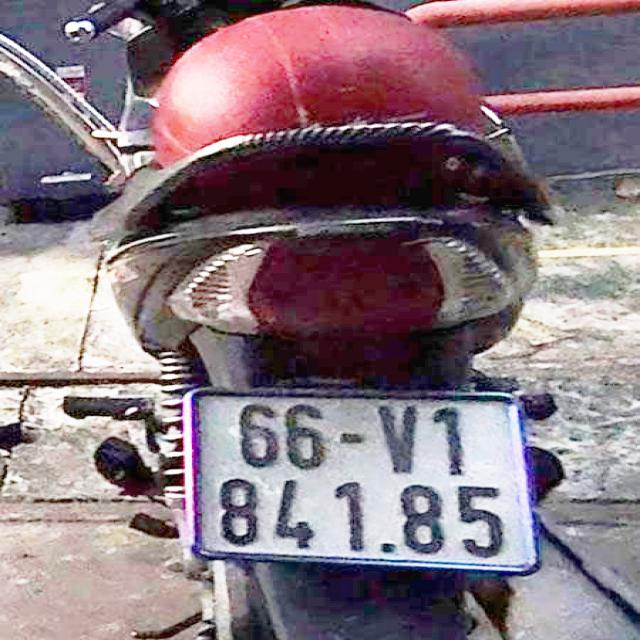license_plate: (190, 397, 533, 566)
